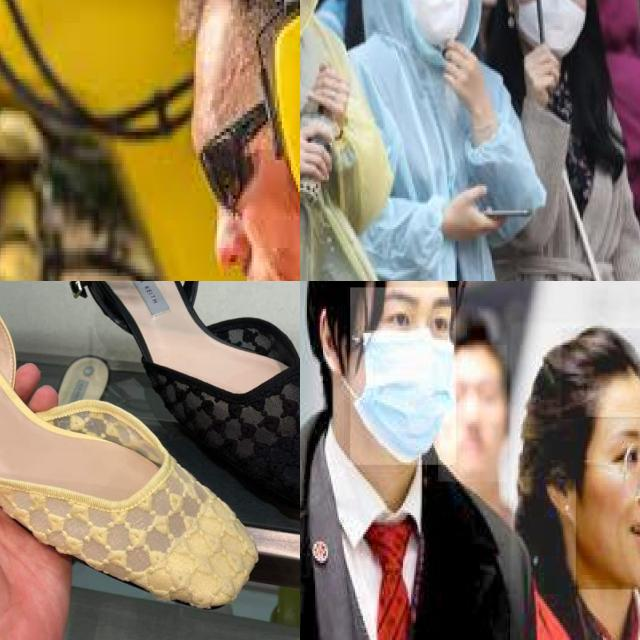Ear-protection: (263, 0, 300, 230)
No_Ear-Protection: (315, 301, 349, 380)
Sandals: (0, 281, 264, 624), (51, 281, 300, 552)
face_mask: (350, 287, 456, 465), (512, 0, 586, 56), (407, 0, 472, 46)
face_nomask: (575, 416, 640, 589), (438, 345, 507, 482)
glasses: (194, 80, 263, 216), (617, 433, 640, 510)
hand_noglove: (442, 181, 499, 238), (308, 60, 351, 119), (300, 119, 336, 186), (522, 40, 561, 100), (441, 36, 481, 94)
head_nohelmet: (561, 328, 640, 419)
person: (300, 281, 526, 640), (336, 0, 535, 281), (482, 0, 640, 281), (510, 323, 640, 640), (300, 0, 368, 281)
